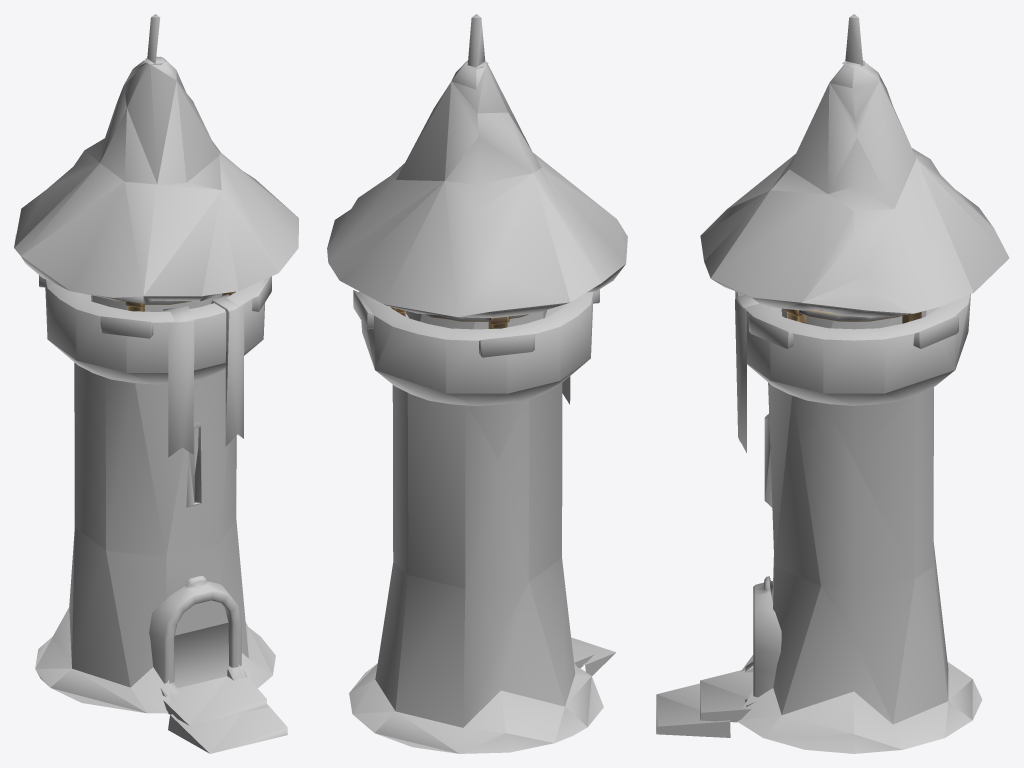
File: MidTowerLod2.fbx
3 views of the same model, side by side, from view 1: azimuth 30°, elevation 25°; view 2: azimuth 150°, elevation 25°; view 3: azimuth 270°, elevation 25° (orthographic). The views are drawn at different scales.
Visible parts, largest first — view 1: Cylinder029, polySurface38; view 2: Cylinder029, Cannon_Core001; view 3: Cylinder029, polySurface38, Cannon_Core001.
Part boxes in pixels (x1,y1,x2,y2): Cylinder029: (14, 14, 298, 753); polySurface38: (149, 575, 241, 683); Cylinder029: (327, 14, 627, 753); Cannon_Core001: (390, 307, 528, 328); Cylinder029: (656, 14, 1009, 753); polySurface38: (753, 576, 781, 697); Cannon_Core001: (785, 309, 921, 323).
Size of the model in its own units: 761 by 1903 by 873.
